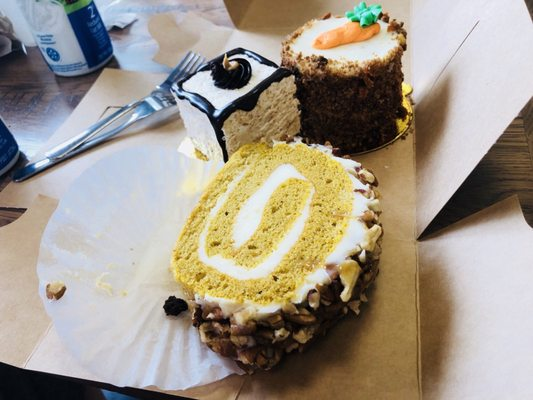sandwich: (418, 89, 533, 241)
soup: (168, 140, 385, 373)
